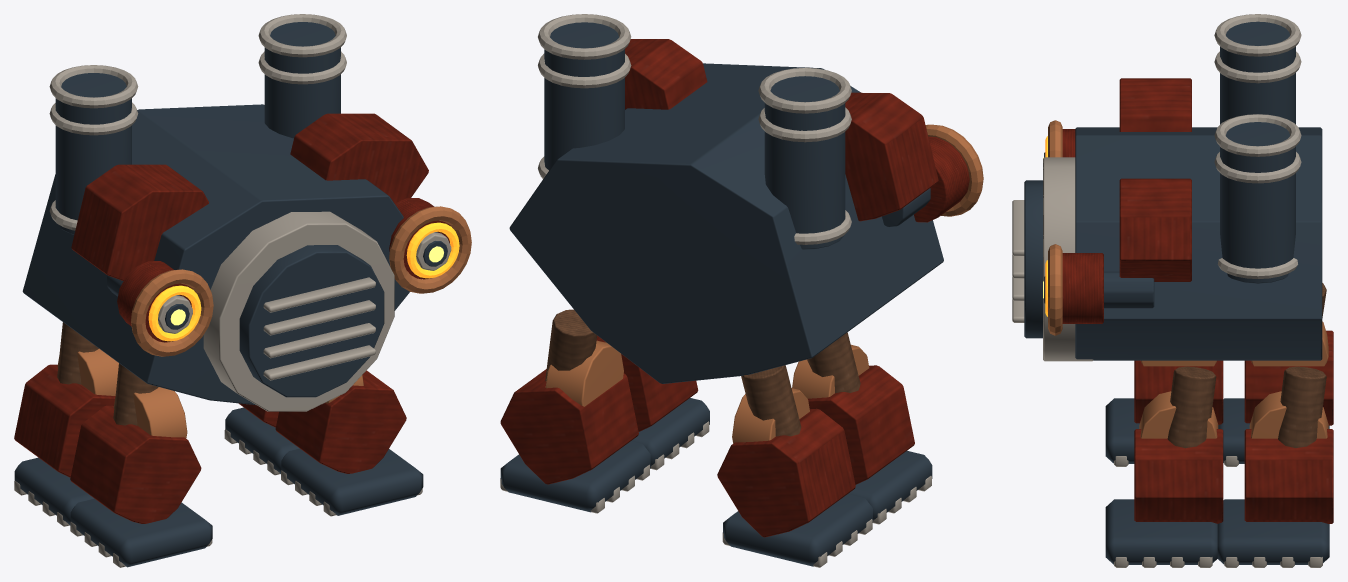
File: kiln_warden.glb
The picture shows the model from 3 angles, left to right: view 1: azimuth 30°, elevation 25°; view 2: azimuth 150°, elevation 25°; view 3: azimuth 270°, elevation 25°; orthographic projection. The views are drawn at different scales.
Parts seen in each view (by area): view 1: Kiln casing, Reinforced exhaust collar.001, Kiln top refractory, Load-bearing shin, Load-bearing shin.002, Load-bearing shin.001, Steel tread, Steel tread.002, Heat baffle, Heat baffle.001, Steel tread.001, Steel tread.003 (+10 smaller); view 2: Kiln casing, Kiln top refractory, Load-bearing shin.001, Load-bearing shin.003, Reinforced exhaust collar.001, Load-bearing shin, Steel tread.001, Steel tread.003, Travel bearing.003, Steel tread, Servo radius rod.001, Load-bearing shin.002 (+8 smaller); view 3: Kiln casing, Reinforced exhaust collar.001, Kiln top refractory, Load-bearing shin.003, Load-bearing shin.002, Steel tread.002, Steel tread.003, Servo radius rod.002, Servo radius rod.003, Burner burner bell.001, Load-bearing shin.001, Load-bearing shin (+11 smaller).
Part boxes in pixels (x1,y1,x2,y2): Kiln casing: (22, 22, 409, 405); Reinforced exhaust collar.001: (49, 14, 394, 411); Kiln top refractory: (71, 113, 428, 280); Load-bearing shin: (70, 405, 201, 523); Load-bearing shin.002: (275, 370, 406, 473); Load-bearing shin.001: (14, 364, 115, 477); Steel tread: (70, 498, 212, 567); Steel tread.002: (281, 448, 423, 515); Heat baffle: (131, 269, 213, 356); Heat baffle.001: (389, 206, 471, 293); Steel tread.001: (14, 457, 93, 525); Steel tread.003: (225, 407, 299, 473); Kiln casing: (509, 22, 943, 383); Kiln top refractory: (625, 39, 938, 221); Load-bearing shin.001: (717, 408, 855, 537); Load-bearing shin.003: (500, 369, 638, 484); Reinforced exhaust collar.001: (538, 14, 851, 244); Load-bearing shin: (808, 365, 914, 484); Steel tread.001: (723, 494, 872, 566); Steel tread.003: (500, 441, 650, 512); Travel bearing.003: (545, 340, 623, 406); Steel tread: (848, 450, 932, 520); Servo radius rod.001: (741, 365, 801, 436); Load-bearing shin.002: (596, 336, 698, 431); Kiln casing: (1024, 21, 1322, 360); Reinforced exhaust collar.001: (1012, 14, 1301, 361); Kiln top refractory: (1119, 78, 1191, 281); Load-bearing shin.003: (1244, 429, 1333, 523); Load-bearing shin.002: (1134, 429, 1223, 523); Steel tread.002: (1105, 499, 1217, 564); Steel tread.003: (1217, 499, 1329, 564); Servo radius rod.002: (1167, 366, 1216, 448); Servo radius rod.003: (1278, 366, 1326, 447); Burner burner bell.001: (1062, 253, 1103, 323); Load-bearing shin.001: (1244, 330, 1333, 425); Load-bearing shin: (1134, 360, 1223, 424).
Size of the model in its own units: 2.34 by 2.78 by 1.95.
Materials: 7 (2 with a texture image).
